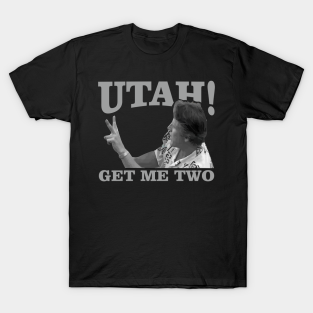design: (96, 78, 218, 183)
